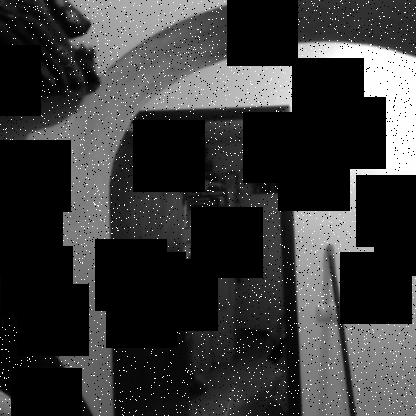Porte: (110, 106, 310, 416)
